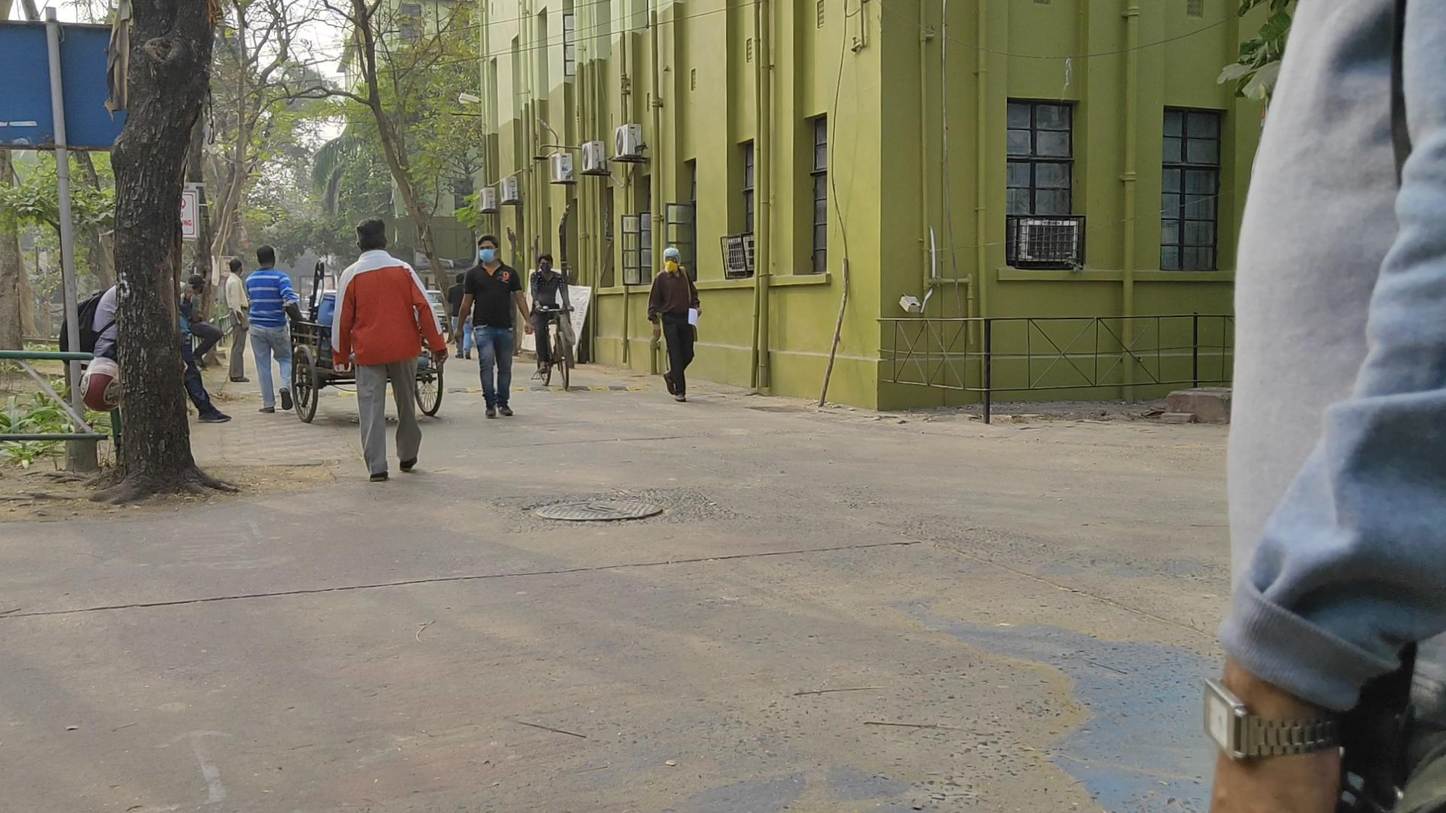bike: (529, 253, 575, 392)
